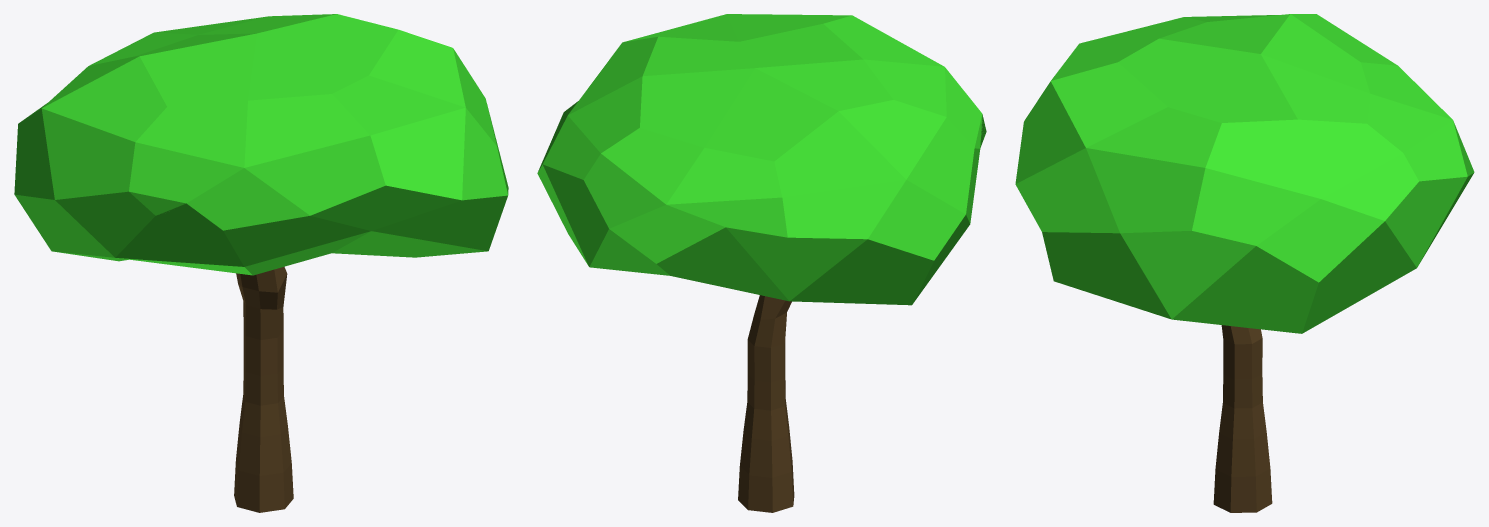
File: tree1.glb
The picture shows the model from 3 angles, left to right: view 1: azimuth 30°, elevation 25°; view 2: azimuth 150°, elevation 25°; view 3: azimuth 270°, elevation 25°; orthographic projection. The views are drawn at different scales.
Parts seen in each view (by area): view 1: Leaves, Trunk; view 2: Leaves, Trunk; view 3: Leaves, Trunk.
Boxes of the visible parts, <box> form: Leaves: <box>14,14,508,275</box>; Trunk: <box>234,266,293,512</box>; Leaves: <box>537,14,986,305</box>; Trunk: <box>738,295,794,512</box>; Leaves: <box>1015,14,1474,333</box>; Trunk: <box>1213,325,1272,512</box>.
Size of the model in its own units: 11.42 by 11.9 by 11.04.
